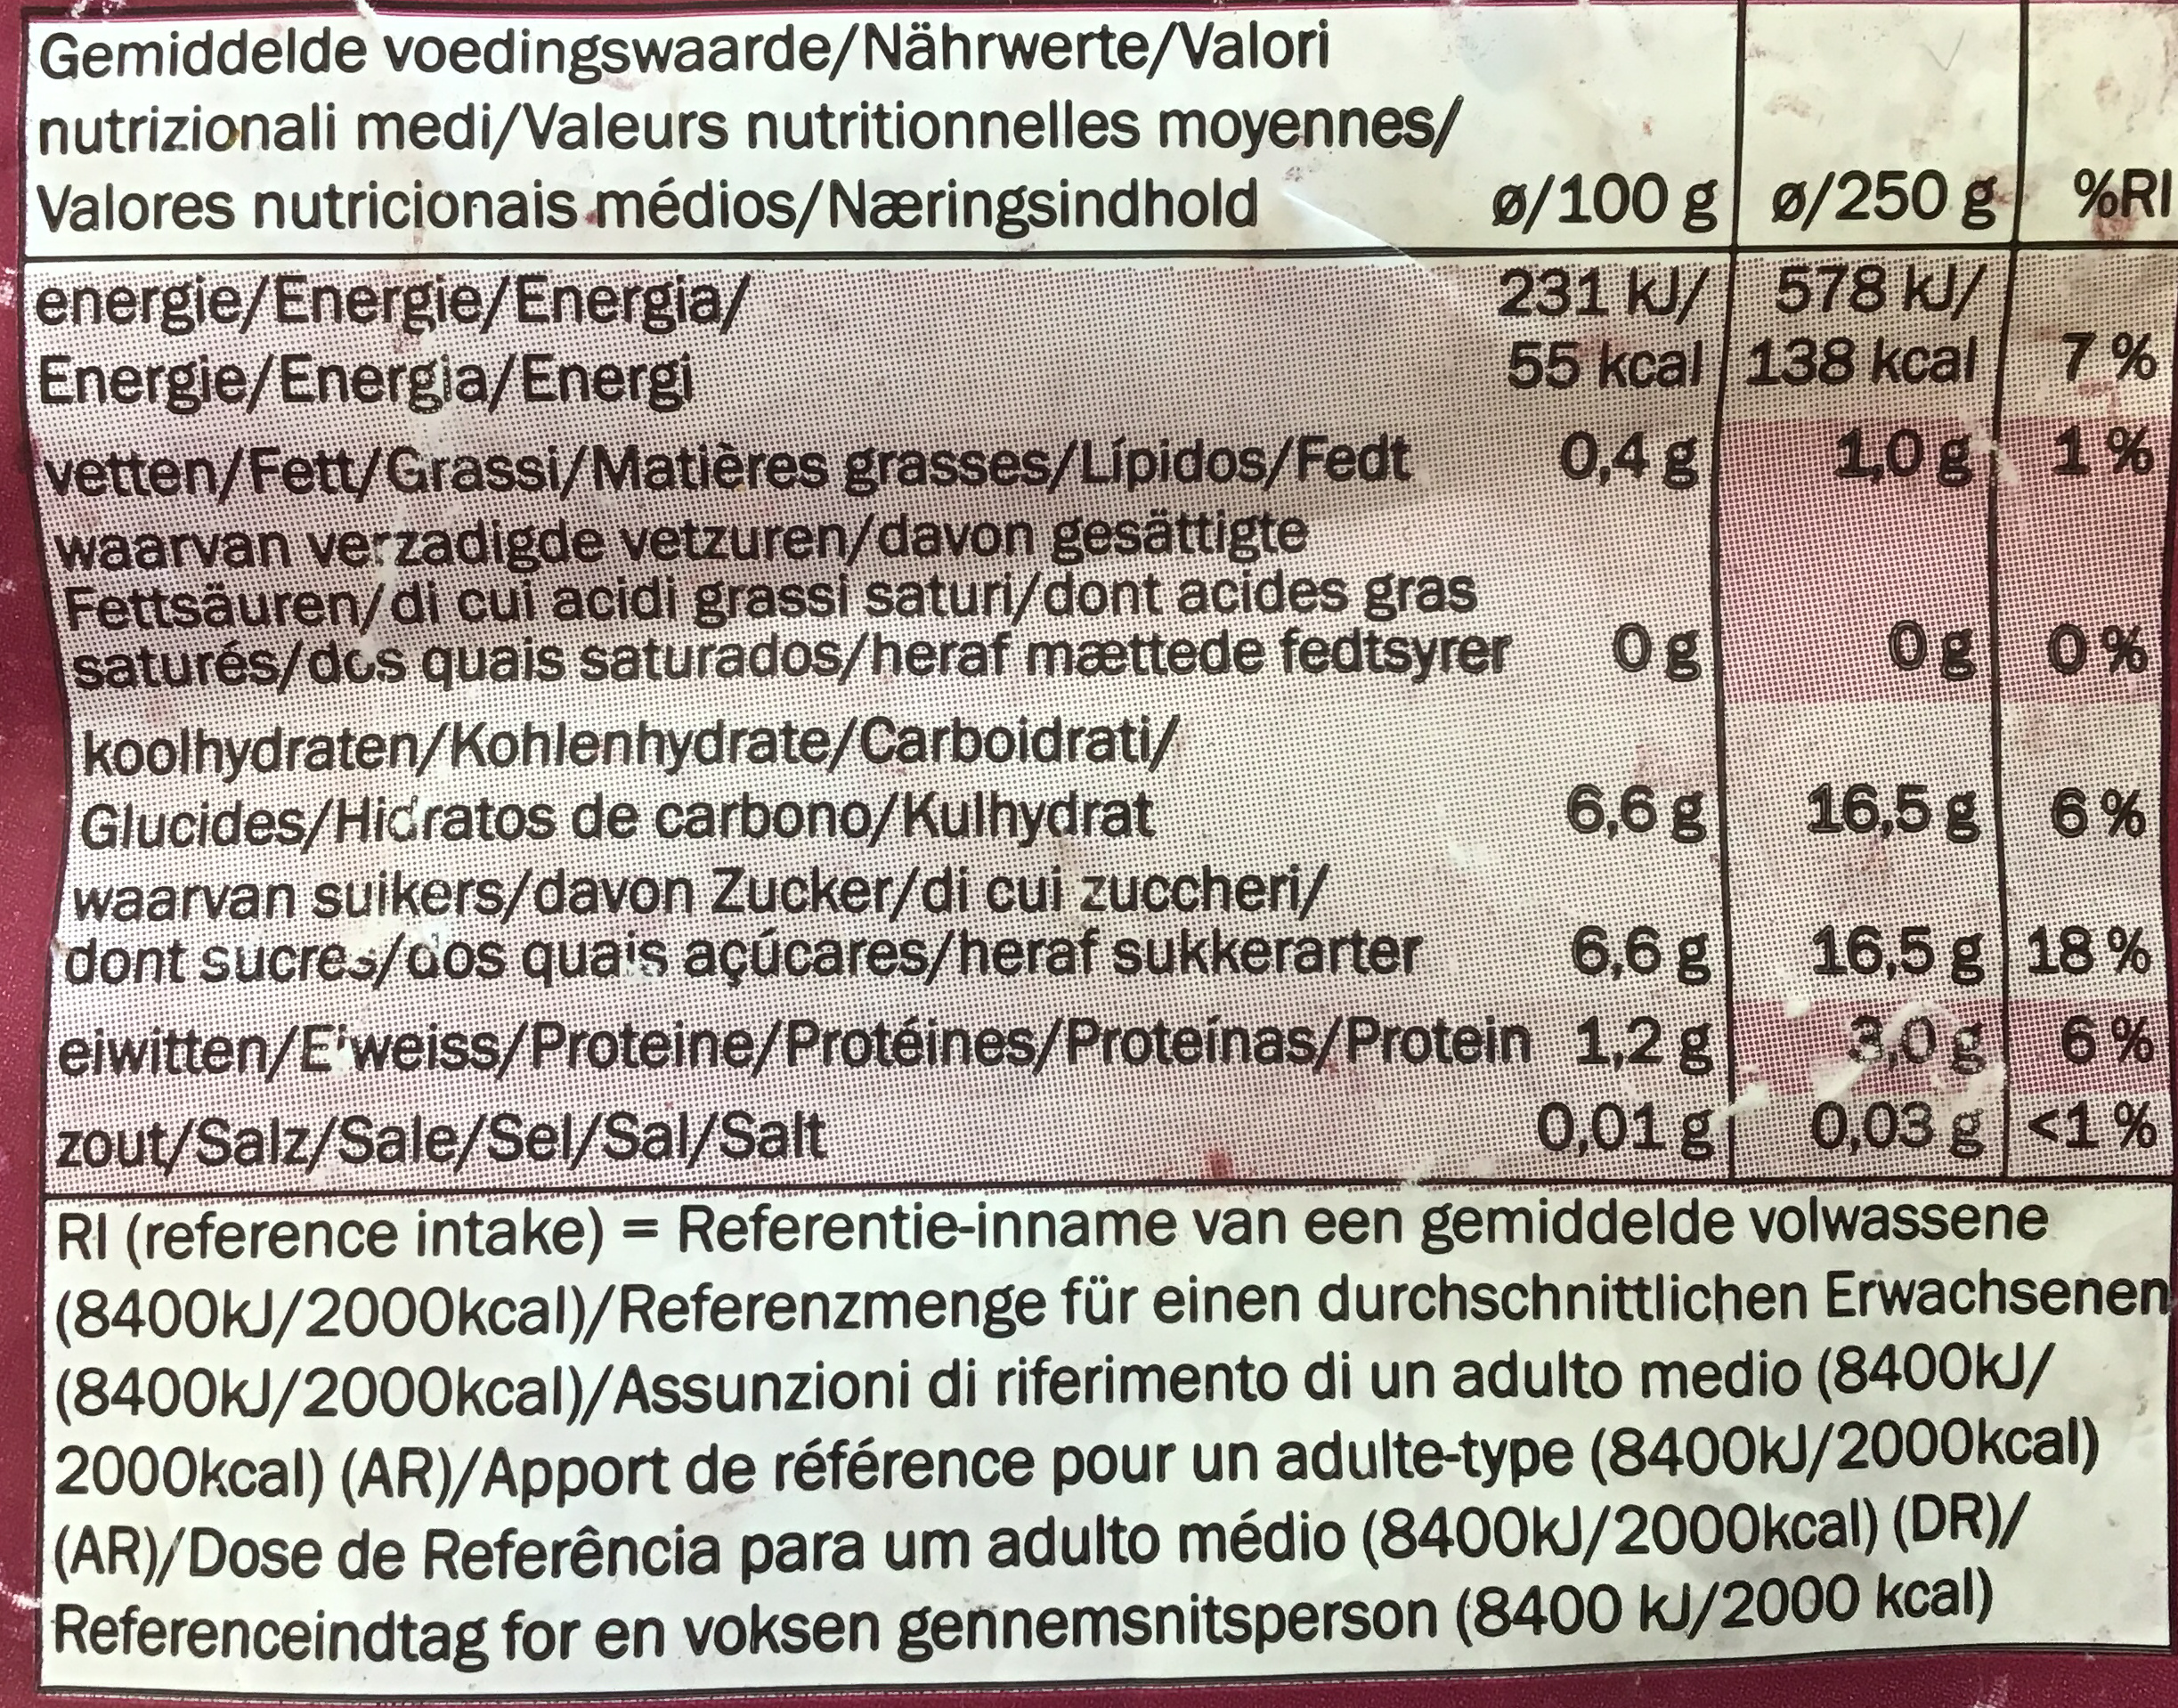column: (19, 9, 1467, 1167), (1750, 129, 1996, 1172), (1492, 177, 1718, 1165), (2030, 134, 2176, 1167)
table: (7, 9, 2178, 1197)
